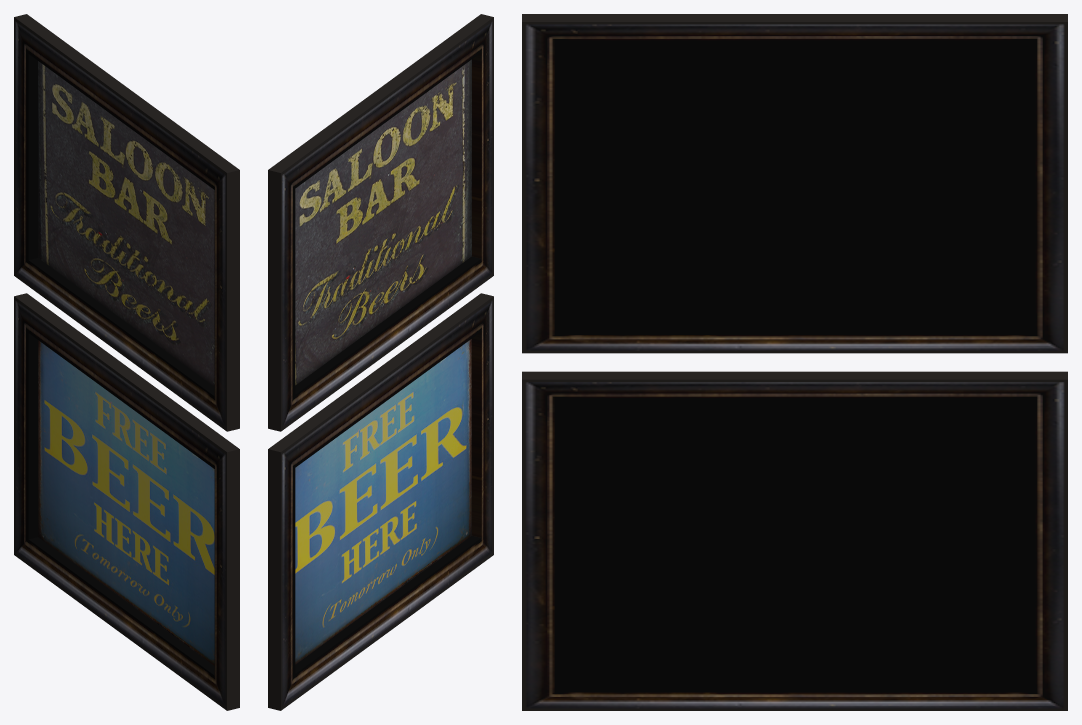
File: P_Pics05.fbx
The picture shows the model from 3 angles, left to right: view 1: azimuth 30°, elevation 25°; view 2: azimuth 150°, elevation 25°; view 3: azimuth 270°, elevation 25°; orthographic projection. The views are drawn at different scales.
Visible parts, largest first — view 1: Empty_Mesh; view 2: Empty_Mesh; view 3: Empty_Mesh.
Part boxes in pixels (box(x1,y1,x2,y2)): Empty_Mesh: box(14, 14, 239, 710); Empty_Mesh: box(268, 14, 493, 710); Empty_Mesh: box(522, 14, 1067, 710).
Size of the model in its own units: 0.0345 by 1.39 by 0.996.
